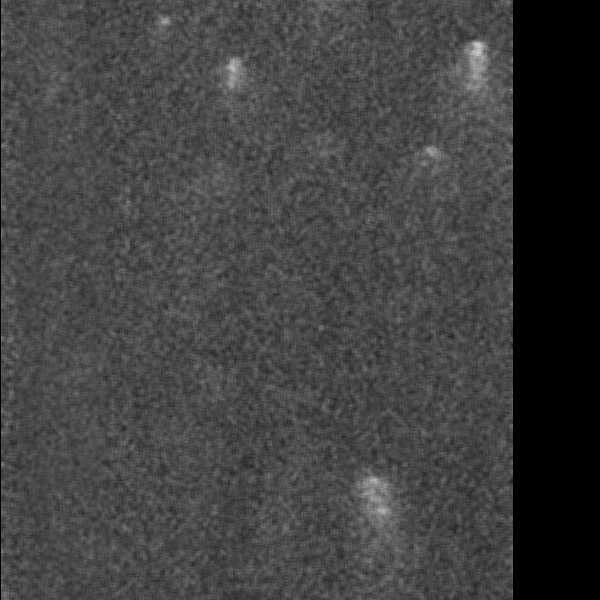spark: (464, 33, 489, 159), (215, 50, 247, 142), (355, 469, 389, 538), (415, 140, 448, 169), (152, 9, 174, 36)
